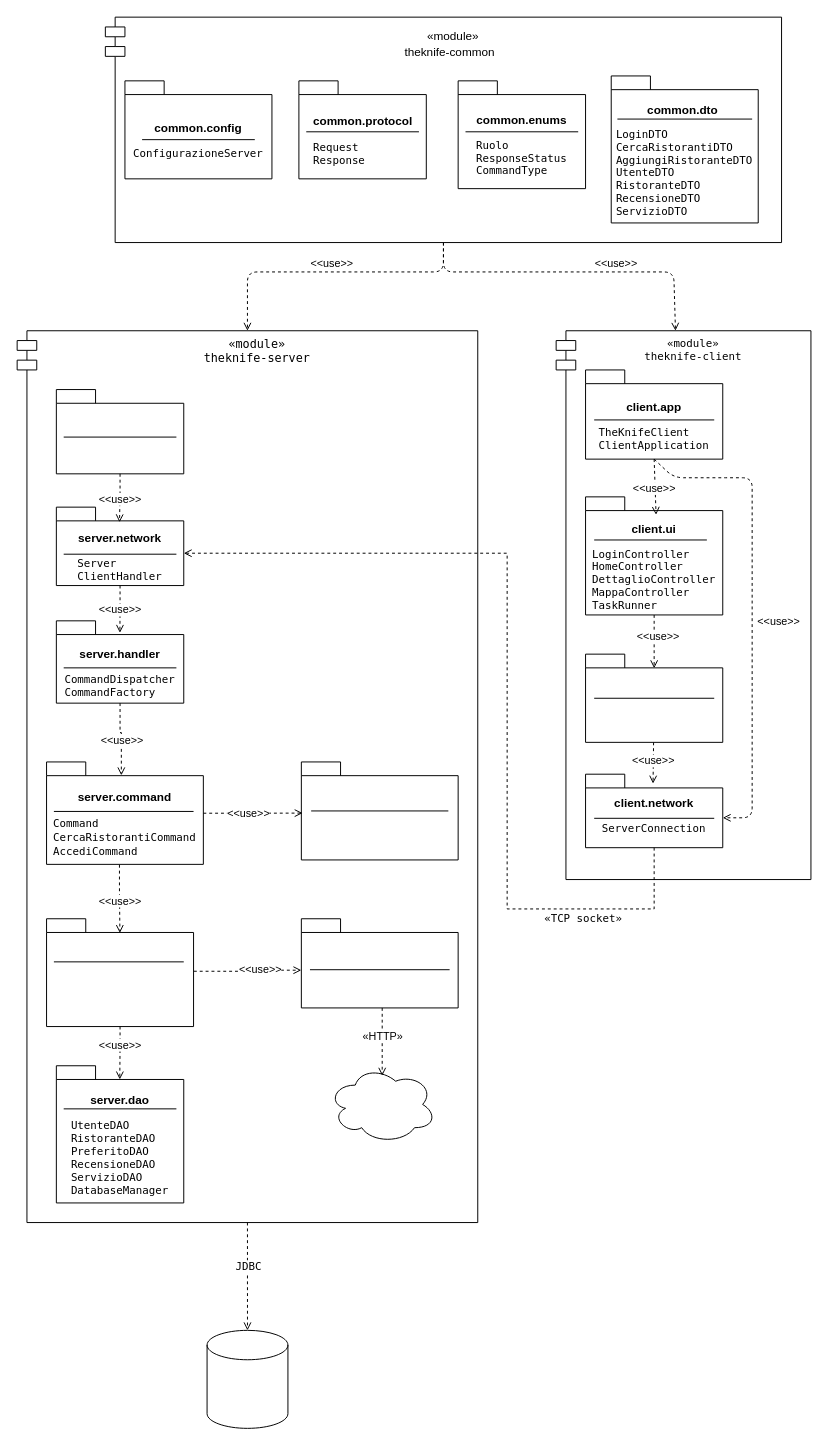
This 828x1446 diagram has some shape labels left out. Each missing label, with the centre of its shape:
client.service AuthService RistoranteService RecensioneService: the point at 654,697
PostgreSQL: the point at 247,1378
server ConfigurazioneDB TheKnifeServer: the point at 119,431
server.exception ApplicationException ValidationException DataAccessException: the point at 379,810
server.external GeocodingClient LocalizzazioneIpClient: the point at 379,963
server.service UtenteService RistoranteService RecensioneService SessionManager: the point at 120,972
Servizi Esterni: the point at 381,1104
